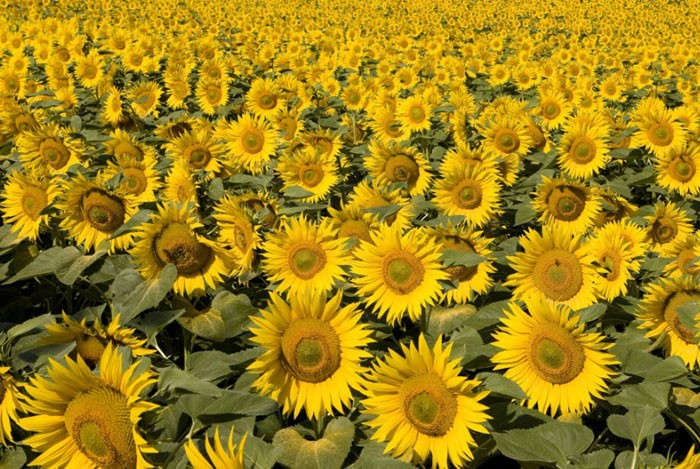girasol: (329, 341, 519, 462), (474, 302, 638, 417), (225, 293, 380, 404), (25, 338, 156, 469), (338, 228, 461, 326), (257, 207, 352, 292)
